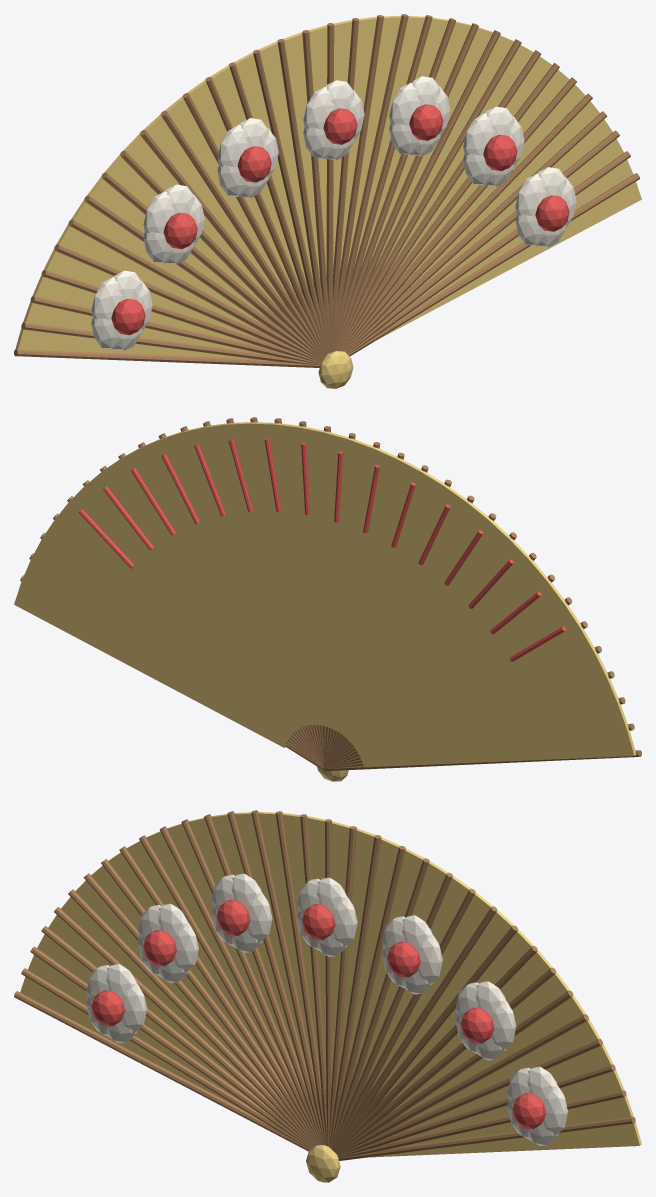
Rendered from shinji_ritual_fan.glb.
3 renders of one model, top to bottom at view 1: azimuth 30°, elevation 25°; view 2: azimuth 150°, elevation 25°; view 3: azimuth 330°, elevation 25°, orthographic.
Visible parts, largest first — view 1: Ceremonial kagura folding fan gold-threaded paper pleat.033, Ceremonial kagura folding fan gold-threaded paper pleat.009, Ceremonial kagura folding fan gold-threaded paper pleat.014, Ceremonial kagura folding fan gold-threaded paper pleat.004, Ceremonial kagura folding fan gold-threaded paper pleat.010, Ceremonial kagura folding fan gold-threaded paper pleat.019, Ceremonial kagura folding fan carved fan bone.024, Ceremonial kagura folding fan gold-threaded paper pleat.005, Ceremonial kagura folding fan gold-threaded paper pleat, Ceremonial kagura folding fan carved fan bone.029, Ceremonial kagura folding fan carved fan bone.020, Ceremonial kagura folding fan carved fan bone.025 (+85 smaller); view 2: Ceremonial kagura folding fan gold-threaded paper pleat, Ceremonial kagura folding fan gold-threaded paper pleat.001, Ceremonial kagura folding fan gold-threaded paper pleat.015, Ceremonial kagura folding fan gold-threaded paper pleat.003, Ceremonial kagura folding fan gold-threaded paper pleat.002, Ceremonial kagura folding fan gold-threaded paper pleat.012, Ceremonial kagura folding fan gold-threaded paper pleat.004, Ceremonial kagura folding fan gold-threaded paper pleat.018, Ceremonial kagura folding fan gold-threaded paper pleat.007, Ceremonial kagura folding fan gold-threaded paper pleat.023, Ceremonial kagura folding fan gold-threaded paper pleat.033, Ceremonial kagura folding fan gold-threaded paper pleat.026 (+23 smaller); view 3: Ceremonial kagura folding fan gold-threaded paper pleat.033, Ceremonial kagura folding fan gold-threaded paper pleat.024, Ceremonial kagura folding fan gold-threaded paper pleat.019, Ceremonial kagura folding fan gold-threaded paper pleat.029, Ceremonial kagura folding fan gold-threaded paper pleat.023, Ceremonial kagura folding fan gold-threaded paper pleat.014, Ceremonial kagura folding fan gold-threaded paper pleat.028, Ceremonial kagura folding fan carved fan bone.009, Ceremonial kagura folding fan carved fan bone.010, Ceremonial kagura folding fan carved fan bone.014, Ceremonial kagura folding fan carved fan bone.005, Ceremonial kagura folding fan carved fan bone (+85 smaller).
Part boxes in pixels (<box>): Ceremonial kagura folding fan gold-threaded paper pleat.033: <box>378,181,641,339</box>; Ceremonial kagura folding fan gold-threaded paper pleat.009: <box>143,114,284,303</box>; Ceremonial kagura folding fan gold-threaded paper pleat.014: <box>258,41,313,283</box>; Ceremonial kagura folding fan gold-threaded paper pleat.004: <box>57,224,261,331</box>; Ceremonial kagura folding fan gold-threaded paper pleat.010: <box>165,96,289,298</box>; Ceremonial kagura folding fan gold-threaded paper pleat.019: <box>347,15,401,266</box>; Ceremonial kagura folding fan carved fan bone.024: <box>338,30,500,351</box>; Ceremonial kagura folding fan gold-threaded paper pleat.005: <box>71,200,264,325</box>; Ceremonial kagura folding fan gold-threaded paper pleat: <box>15,328,250,358</box>; Ceremonial kagura folding fan carved fan bone.029: <box>344,93,592,351</box>; Ceremonial kagura folding fan carved fan bone.020: <box>333,14,408,351</box>; Ceremonial kagura folding fan carved fan bone.025: <box>339,39,521,351</box>; Ceremonial kagura folding fan gold-threaded paper pleat: <box>363,728,635,767</box>; Ceremonial kagura folding fan gold-threaded paper pleat.001: <box>362,702,628,763</box>; Ceremonial kagura folding fan gold-threaded paper pleat.015: <box>327,438,374,727</box>; Ceremonial kagura folding fan gold-threaded paper pleat.003: <box>359,651,608,757</box>; Ceremonial kagura folding fan gold-threaded paper pleat.002: <box>360,676,618,760</box>; Ceremonial kagura folding fan gold-threaded paper pleat.012: <box>337,471,445,732</box>; Ceremonial kagura folding fan gold-threaded paper pleat.004: <box>357,627,595,753</box>; Ceremonial kagura folding fan gold-threaded paper pleat.018: <box>275,423,320,725</box>; Ceremonial kagura folding fan gold-threaded paper pleat.007: <box>350,558,548,744</box>; Ceremonial kagura folding fan gold-threaded paper pleat.023: <box>160,431,305,726</box>; Ceremonial kagura folding fan gold-threaded paper pleat.033: <box>14,582,285,747</box>; Ceremonial kagura folding fan gold-threaded paper pleat.026: <box>101,459,297,730</box>; Ceremonial kagura folding fan gold-threaded paper pleat.033: <box>370,1122,641,1157</box>; Ceremonial kagura folding fan gold-threaded paper pleat.024: <box>374,910,514,1097</box>; Ceremonial kagura folding fan gold-threaded paper pleat.019: <box>345,837,400,1076</box>; Ceremonial kagura folding fan gold-threaded paper pleat.029: <box>396,1019,600,1126</box>; Ceremonial kagura folding fan gold-threaded paper pleat.023: <box>368,892,492,1093</box>; Ceremonial kagura folding fan gold-threaded paper pleat.014: <box>258,812,312,1062</box>; Ceremonial kagura folding fan gold-threaded paper pleat.028: <box>394,995,585,1119</box>; Ceremonial kagura folding fan carved fan bone.009: <box>139,835,319,1144</box>; Ceremonial kagura folding fan carved fan bone.010: <box>159,826,320,1144</box>; Ceremonial kagura folding fan carved fan bone.014: <box>251,810,325,1145</box>; Ceremonial kagura folding fan carved fan bone.005: <box>68,889,315,1146</box>; Ceremonial kagura folding fan carved fan bone: <box>14,991,309,1151</box>.
Bounding box in the file's own units: 1.95 × 1.07 × 0.1279.
